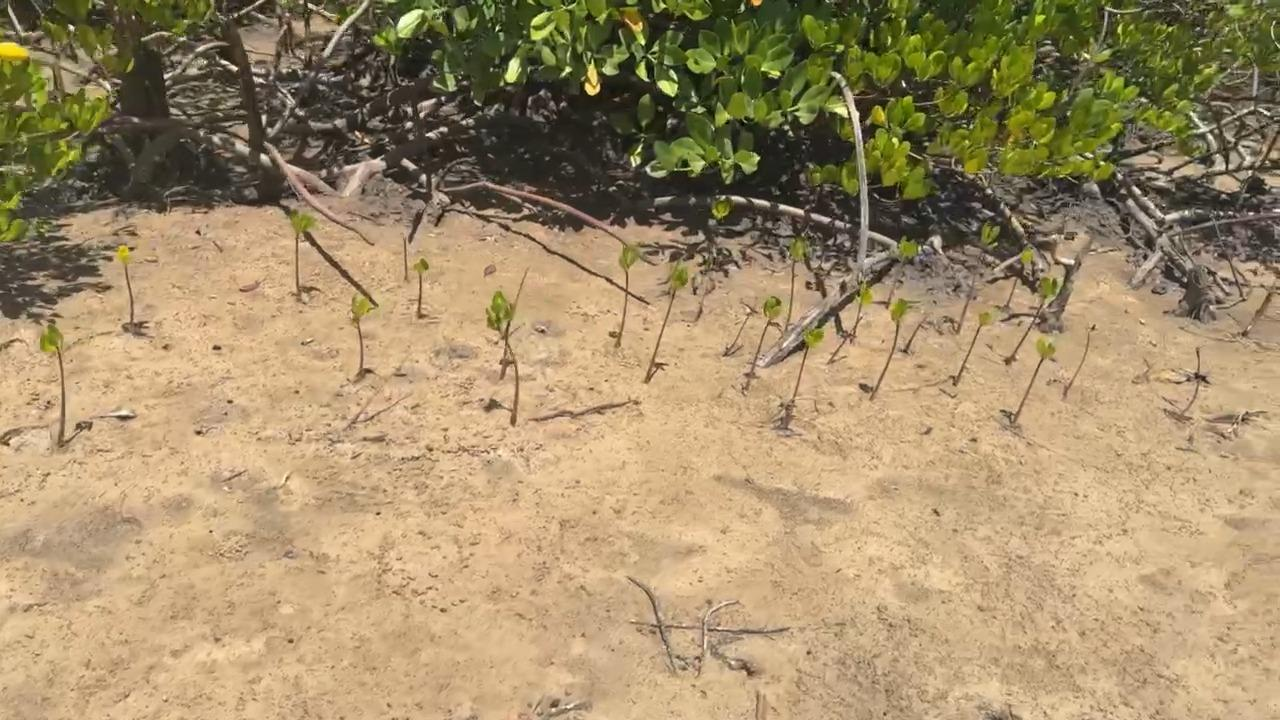Tree: (642, 263, 689, 384), (954, 225, 999, 331), (486, 293, 520, 425), (1007, 277, 1059, 362), (869, 298, 908, 402), (1012, 340, 1057, 424), (39, 324, 66, 444), (500, 269, 530, 377), (953, 311, 994, 385), (748, 296, 782, 377), (615, 248, 641, 349), (792, 327, 826, 402), (1063, 324, 1099, 394), (886, 237, 917, 309), (289, 211, 314, 291), (351, 293, 375, 371), (1005, 248, 1036, 305), (786, 240, 804, 333), (829, 315, 862, 365), (115, 245, 134, 323), (725, 309, 754, 357), (905, 314, 931, 353), (854, 281, 872, 335), (413, 258, 429, 315), (403, 238, 410, 280)
